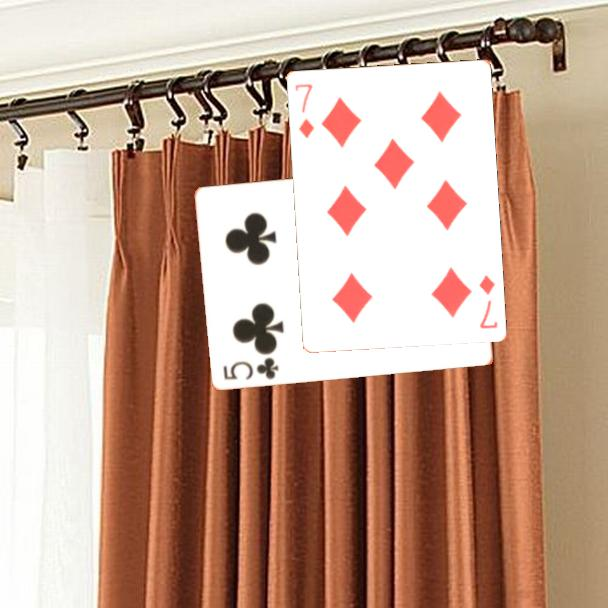c05: (220, 354, 282, 382)
d07: (291, 80, 317, 141), (475, 271, 500, 331)
